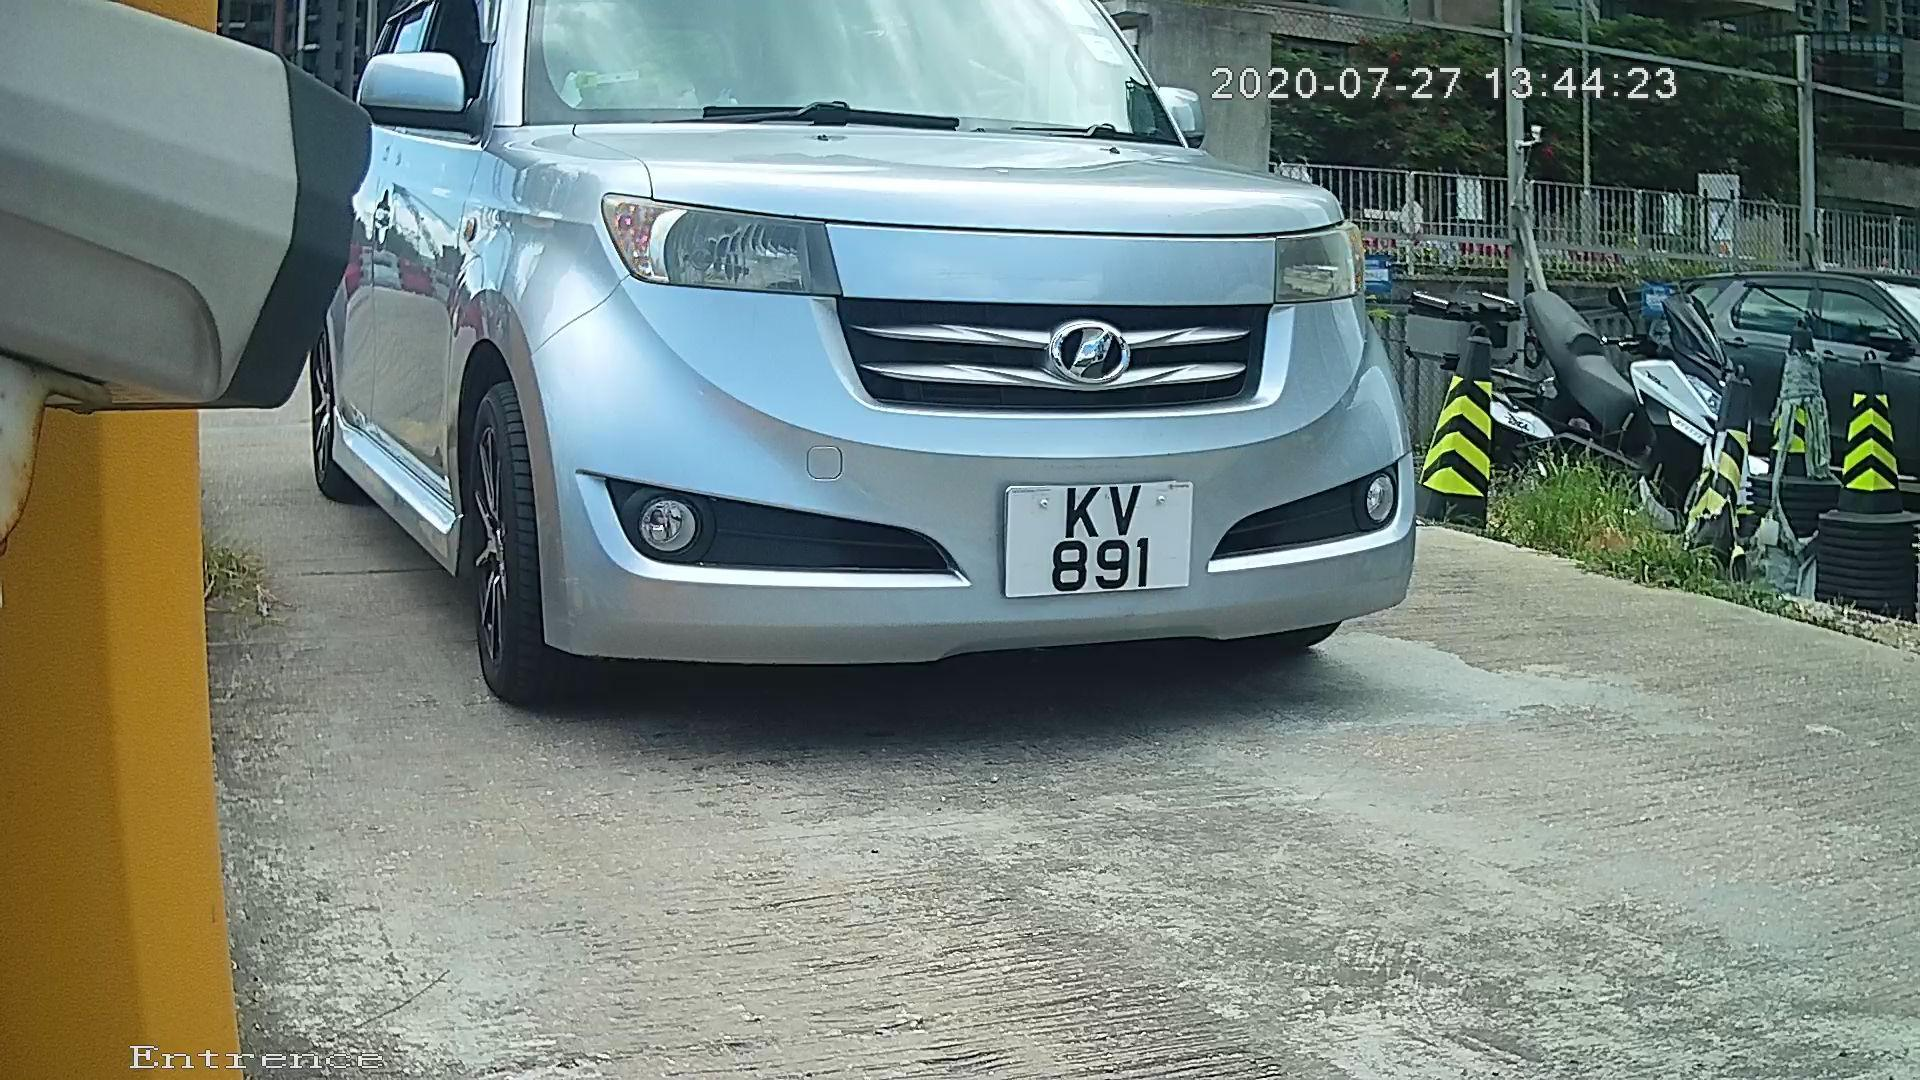License Plate: (969, 454, 1201, 613)
